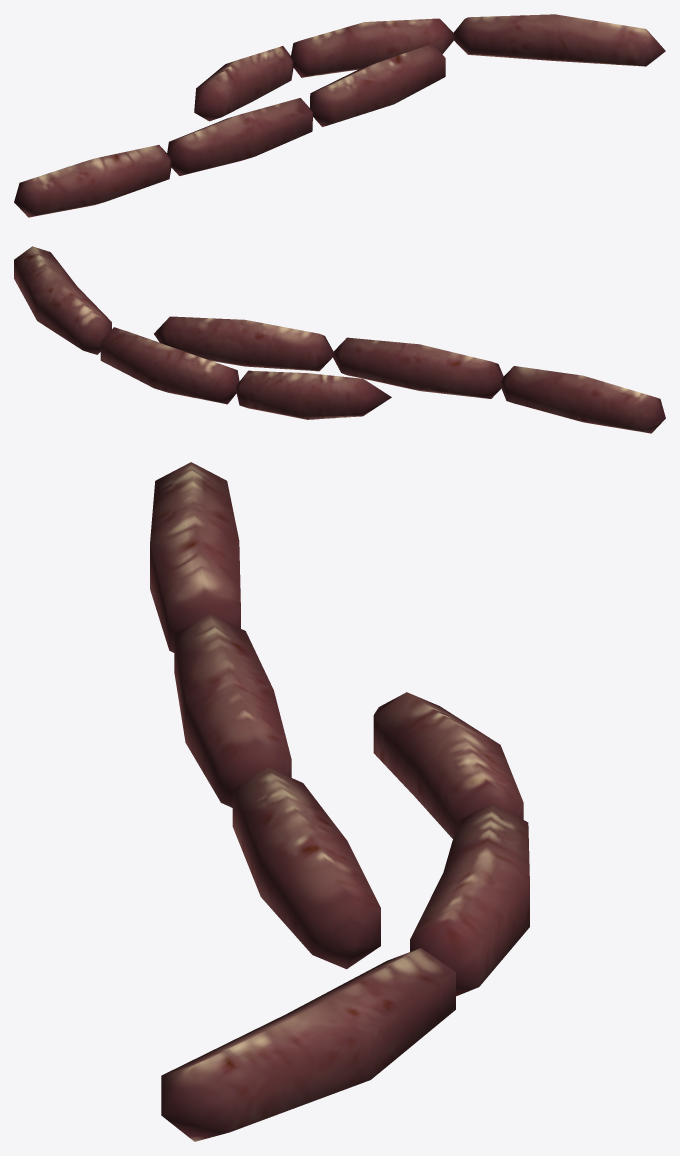
File: sausages1.fbx
The picture shows the model from 3 angles, top to bottom: view 1: azimuth 30°, elevation 25°; view 2: azimuth 150°, elevation 25°; view 3: azimuth 270°, elevation 25°; orthographic projection. The views are drawn at different scales.
Visible parts, largest first — view 1: sausages1; view 2: sausages1; view 3: sausages1.
Boxes of the visible parts, <box> form: sausages1: <box>14,14,665,217</box>; sausages1: <box>14,246,665,433</box>; sausages1: <box>150,462,529,1141</box>.
Size of the model in its own units: 127 by 8.93 by 32.48.
